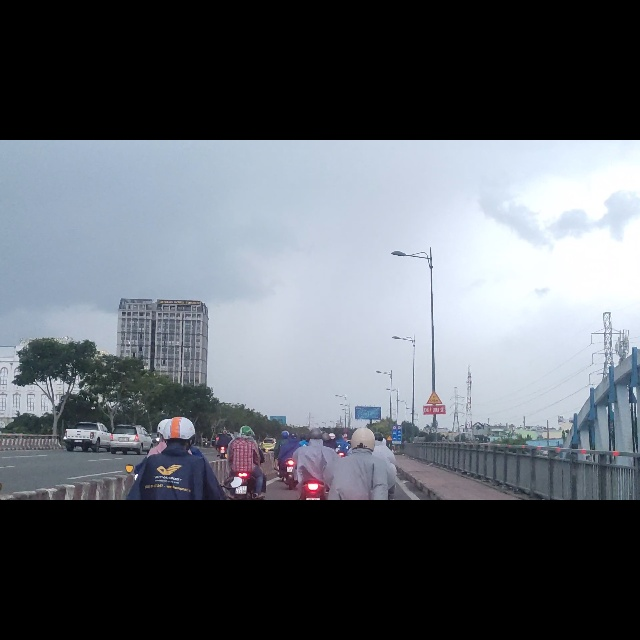bien_cam: (425, 446, 443, 471), (387, 523, 393, 535)
